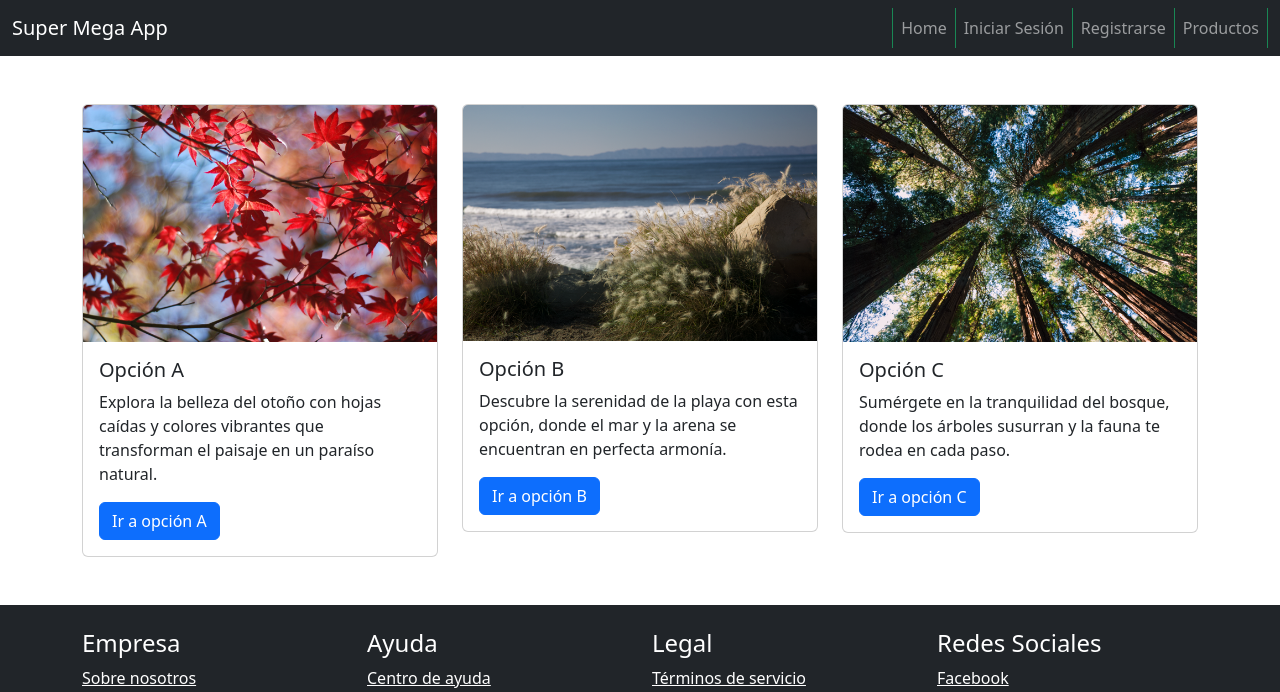
Test: debe mostrar un mensaje de confirmación al enviar los datos
This screenshot has width=1280, height=692.
Click the link to "/register".
click(1124, 28)  # box [1073,8,1175,48]
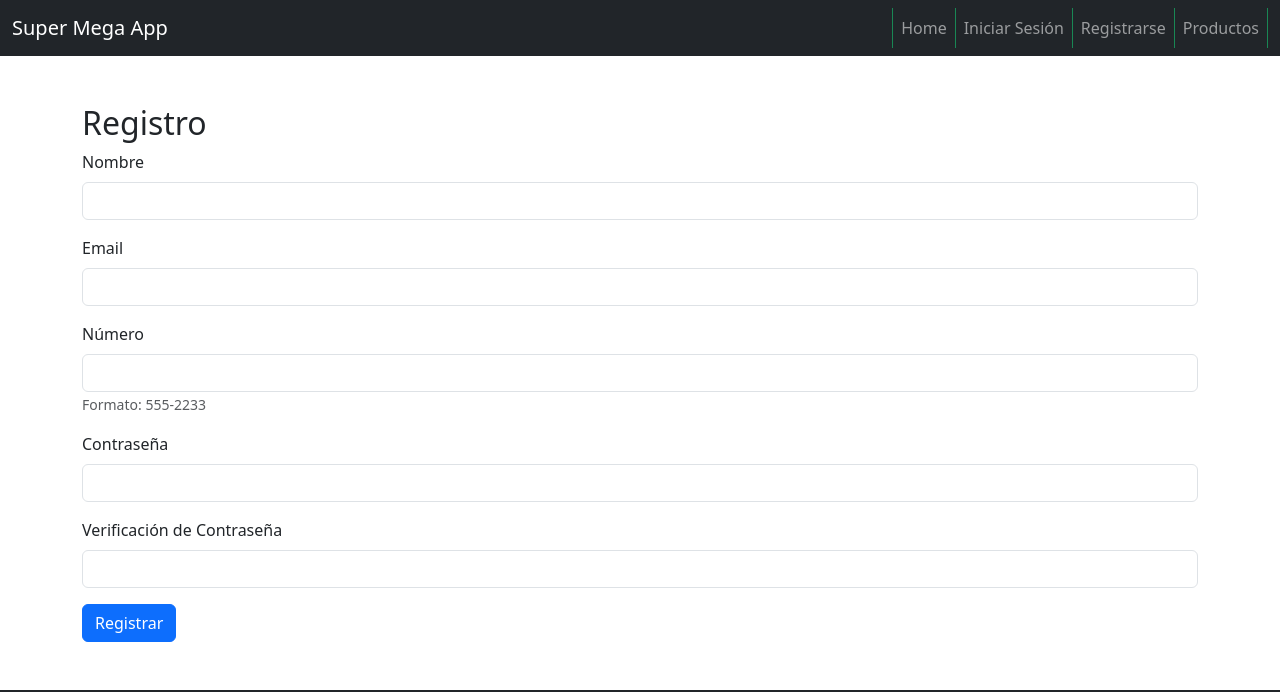
Type "Neymar da Silva" into the field named "name".
click(640, 201); type("Neymar da Silva")  # box [82,182,1198,220]
Type "jerry@live.com" into the field named "email".
click(640, 287); type("jerry@live.com")  # box [82,268,1198,306]
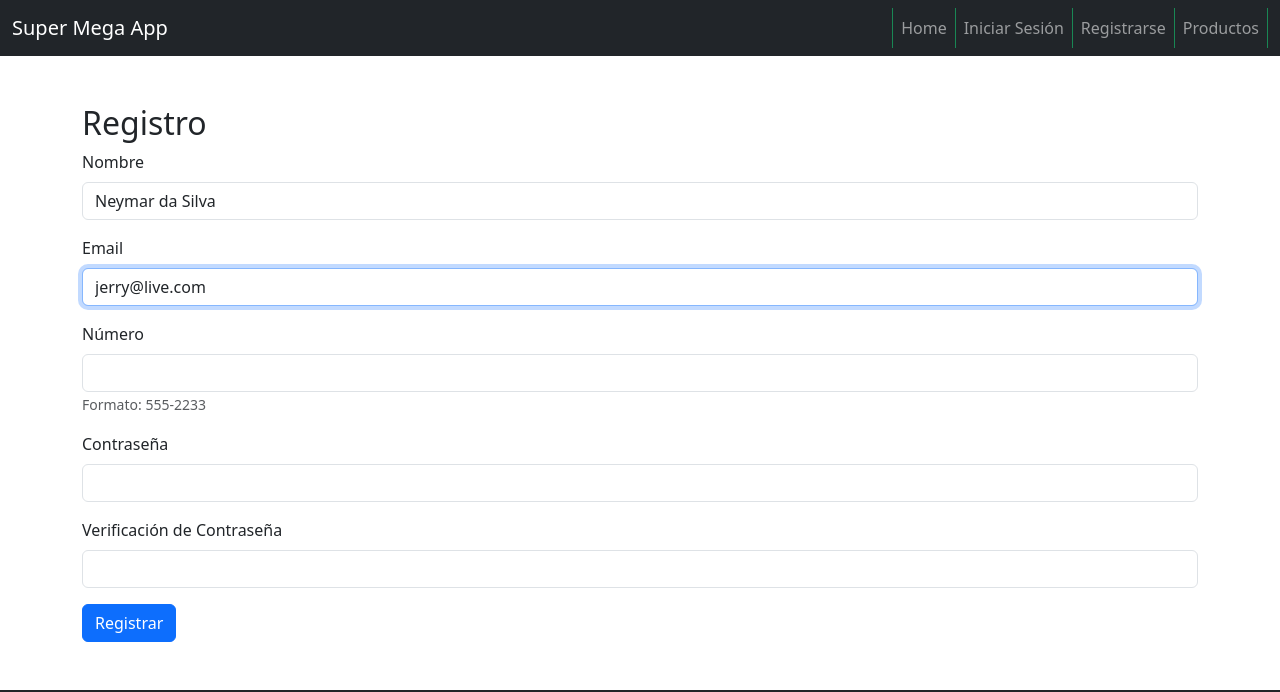
Type "555-2233" into the field named "phone".
click(640, 373); type("555-2233")  # box [82,354,1198,392]
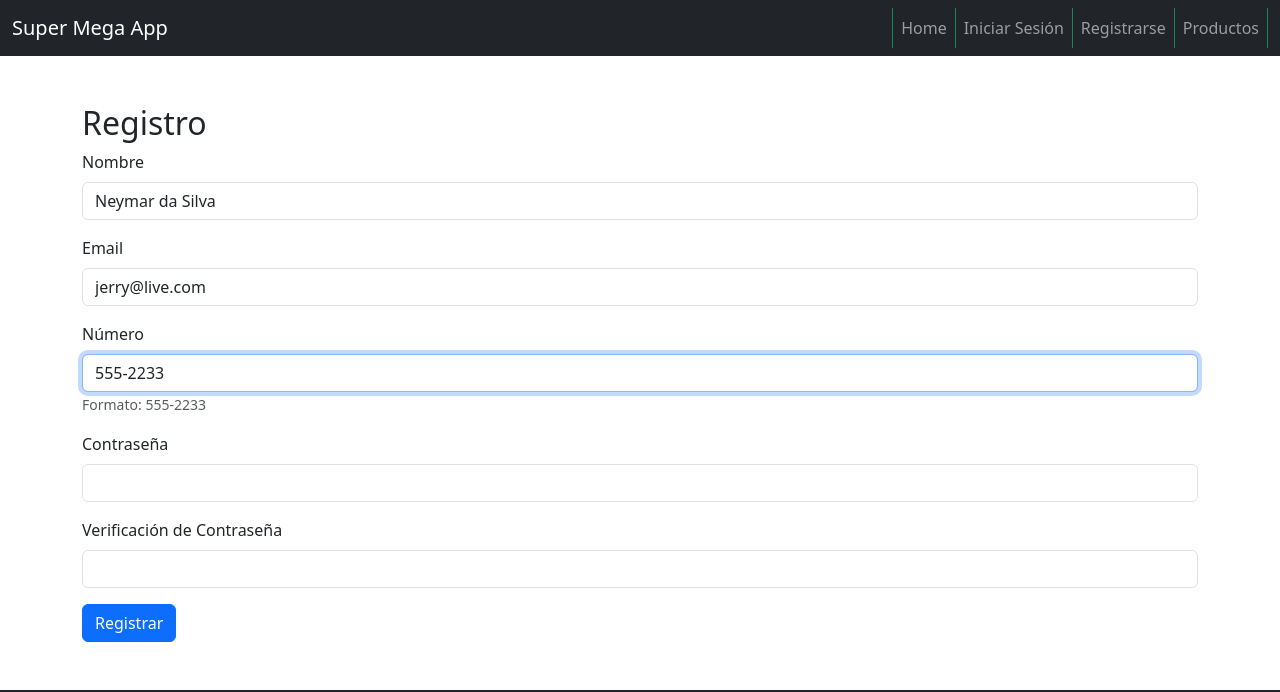
Type "password123" into the password field named "password".
click(640, 483); type("password123")  # box [82,464,1198,502]
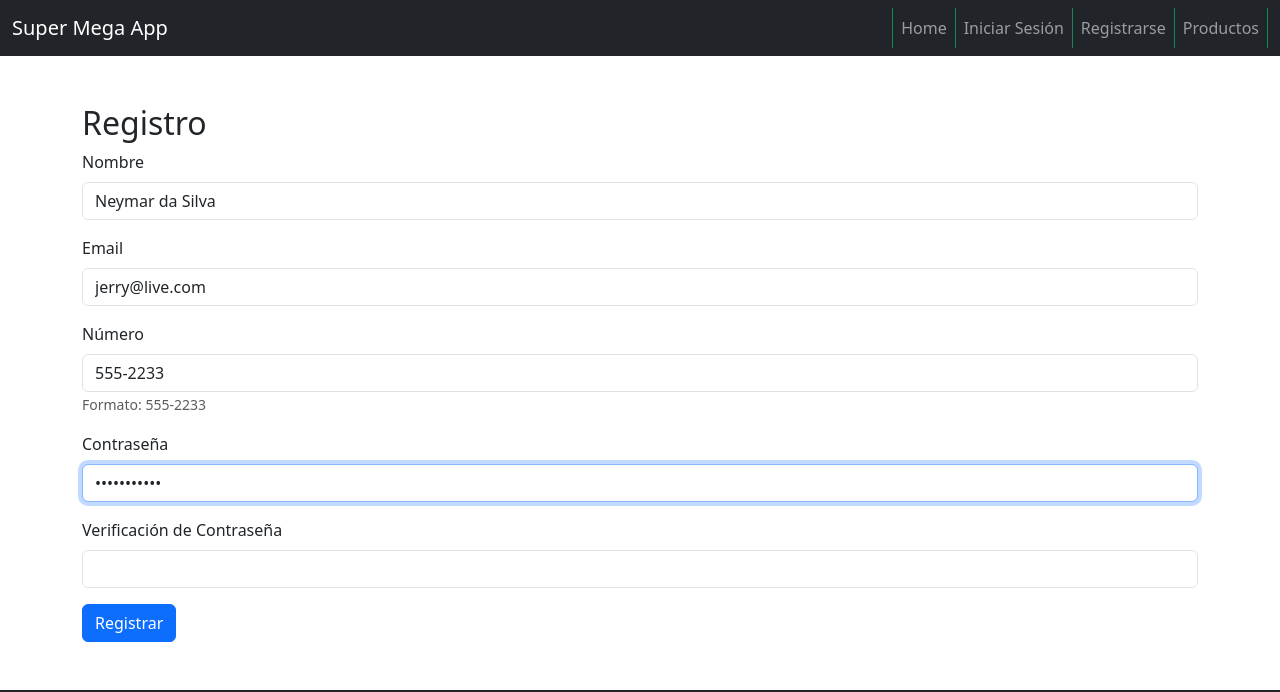
Type "password123" into the password field named "confirmPassword".
click(640, 569); type("password123")  # box [82,550,1198,588]
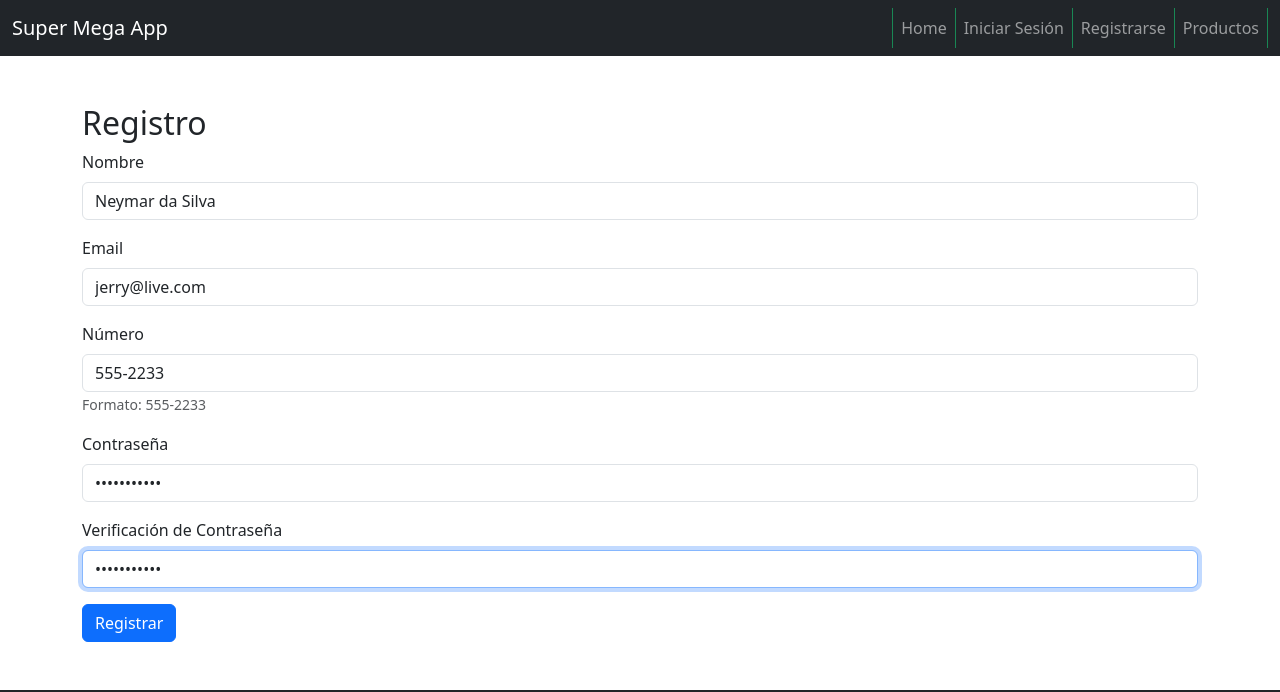
Submit the form
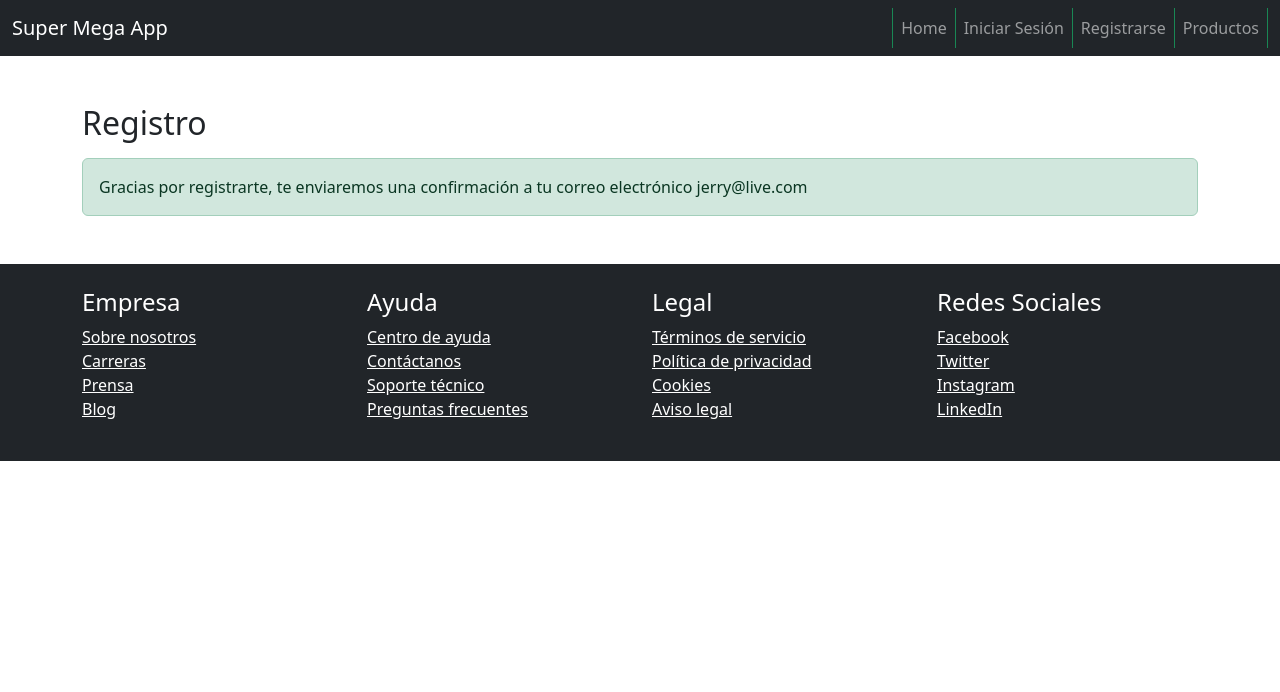
Check: the text "Gracias por registrarte" shows "jerry@live.com", box [99,176,808,198]
